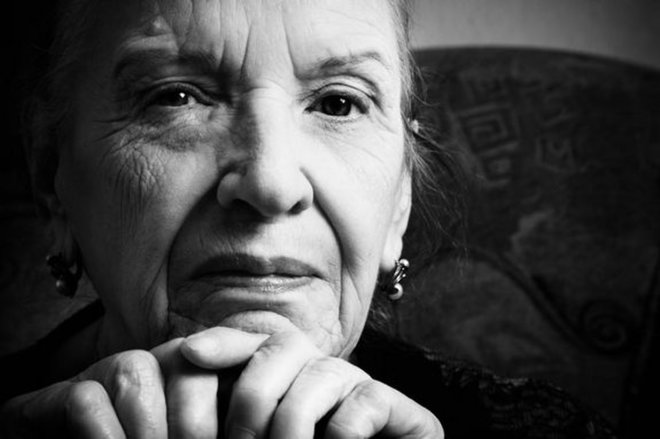sad: (46, 6, 440, 379)
